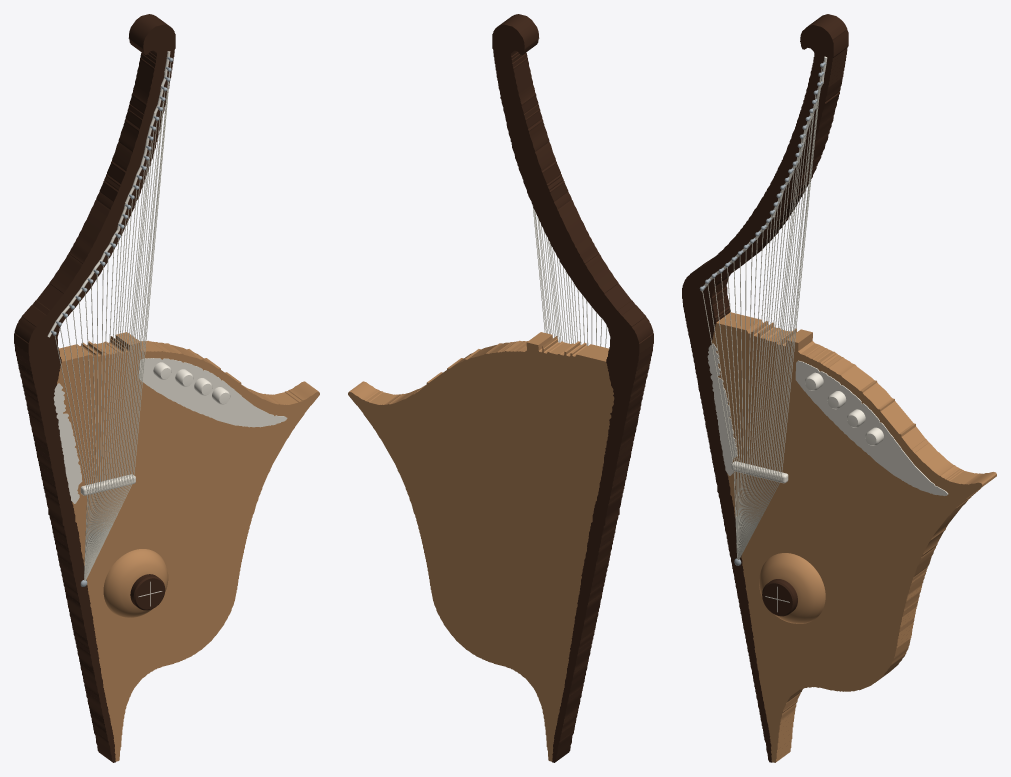
The model's file is vulcan-lyrette.glb.
The picture shows the model from 3 angles, left to right: view 1: azimuth 30°, elevation 25°; view 2: azimuth 150°, elevation 25°; view 3: azimuth 330°, elevation 25°; orthographic projection. The views are drawn at different scales.
Parts seen in each view (by area): view 1: VoiceBox_0, Neck_Back_Teak_0, ControlBox_0, TensionBoss, Back_Nacre_0, Glide, Bridge, String_00a, String_02a, String_03a, String_01a; view 2: VoiceBox_0, Neck_Back_Teak_0; view 3: VoiceBox_0, Neck_Back_Teak_0, ControlBox_0, TensionBoss, Back_Nacre_0, Glide, Bridge, String_00a, String_01a.
Boxes of the visible parts, box(x1,y1,x2,y2) form: VoiceBox_0: box(57, 332, 319, 761); Neck_Back_Teak_0: box(14, 14, 175, 762); ControlBox_0: box(139, 358, 287, 427); TensionBoss: box(103, 549, 168, 617); Back_Nacre_0: box(53, 383, 82, 503); Glide: box(130, 574, 165, 610); Bridge: box(80, 474, 135, 495); String_00a: box(133, 62, 171, 481); String_02a: box(130, 82, 168, 481); String_03a: box(128, 91, 165, 482); String_01a: box(131, 71, 169, 481); VoiceBox_0: box(348, 332, 614, 761); Neck_Back_Teak_0: box(492, 14, 653, 762); VoiceBox_0: box(712, 312, 996, 762); Neck_Back_Teak_0: box(682, 14, 848, 762); ControlBox_0: box(795, 360, 948, 495); TensionBoss: box(759, 553, 825, 623); Back_Nacre_0: box(707, 343, 737, 475); Glide: box(762, 579, 797, 616); Bridge: box(731, 461, 788, 483); String_00a: box(781, 67, 822, 479); String_01a: box(779, 77, 820, 479).
Bounding box in the file's own units: 0.491 × 1.17 × 0.0846.
